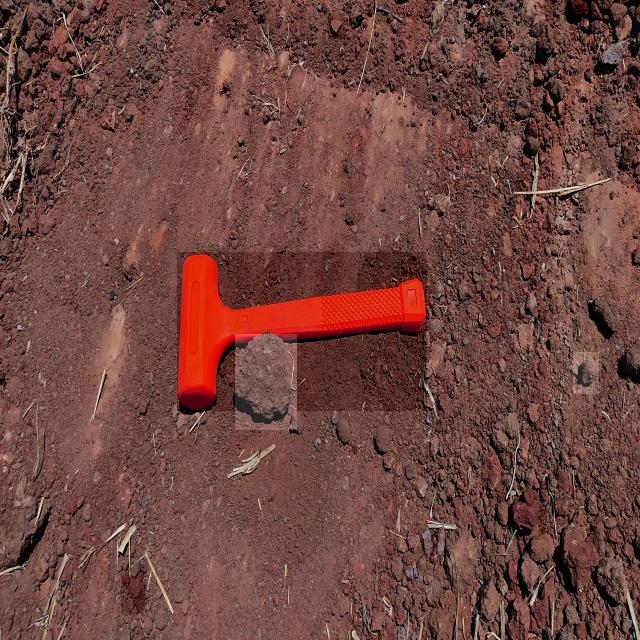Orange_hammer: (178, 252, 428, 411)
rock: (235, 334, 297, 430), (562, 520, 602, 596), (511, 482, 546, 540), (586, 290, 620, 342), (510, 482, 539, 536), (121, 563, 147, 614), (574, 352, 600, 394), (564, 0, 592, 21), (328, 13, 345, 39)
